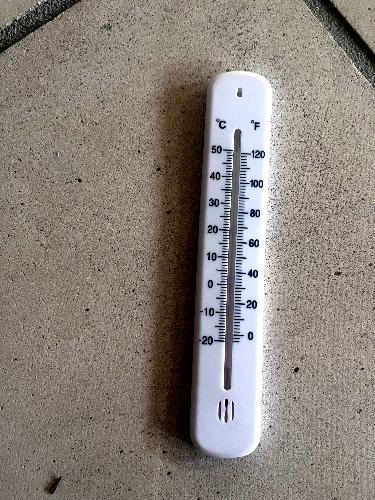thermo: (188, 71, 281, 456)
